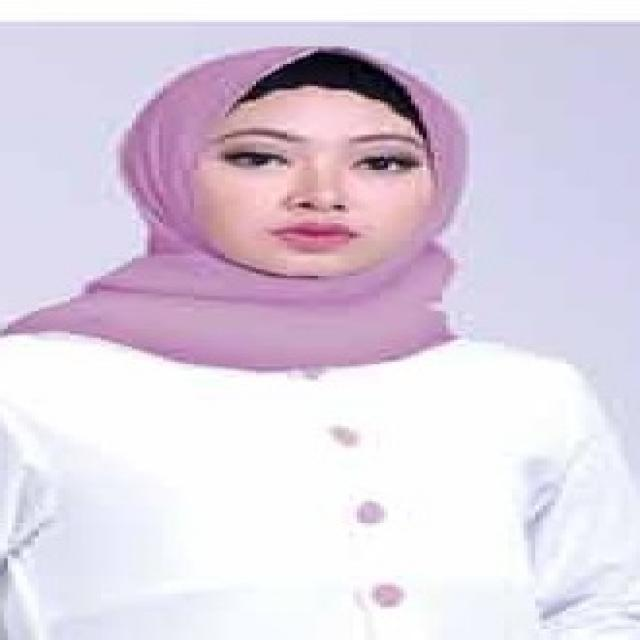head: (123, 44, 470, 296)
